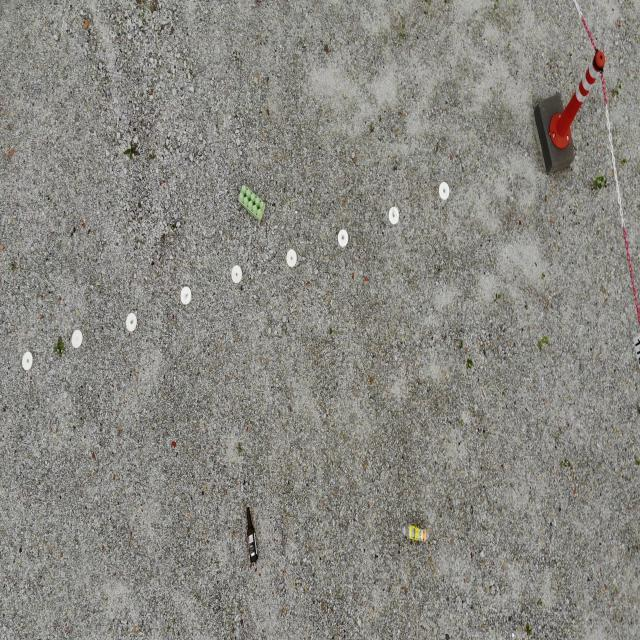rubbish: (236, 184, 265, 224), (246, 508, 259, 564), (402, 524, 429, 541)
